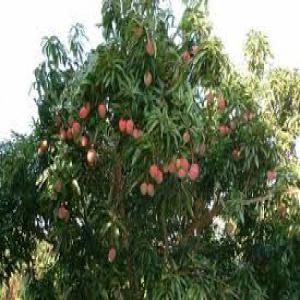Tree: (3, 0, 295, 294)
